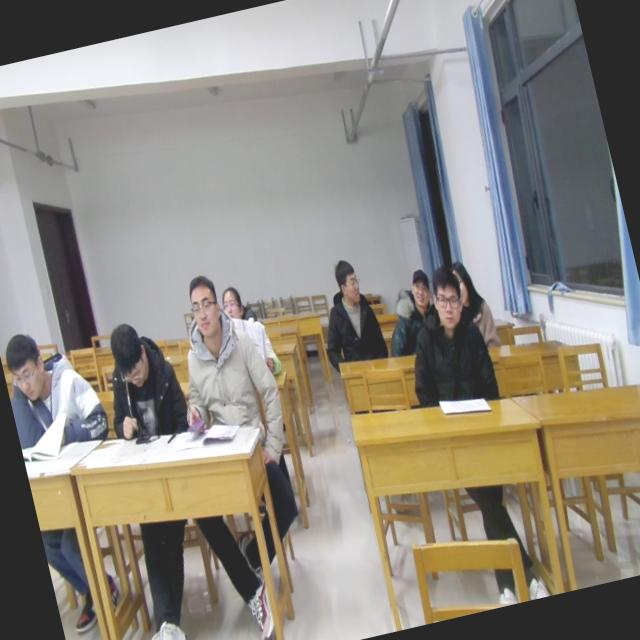bow: (0, 317, 113, 460)
down: (0, 325, 53, 409), (101, 311, 154, 392)
lookup: (179, 270, 229, 346), (420, 262, 470, 332), (398, 260, 434, 312), (217, 281, 248, 326)
sit: (152, 263, 286, 442), (388, 260, 504, 412), (90, 314, 192, 449), (307, 253, 391, 372), (218, 277, 284, 383), (373, 264, 446, 358), (445, 253, 503, 354)
